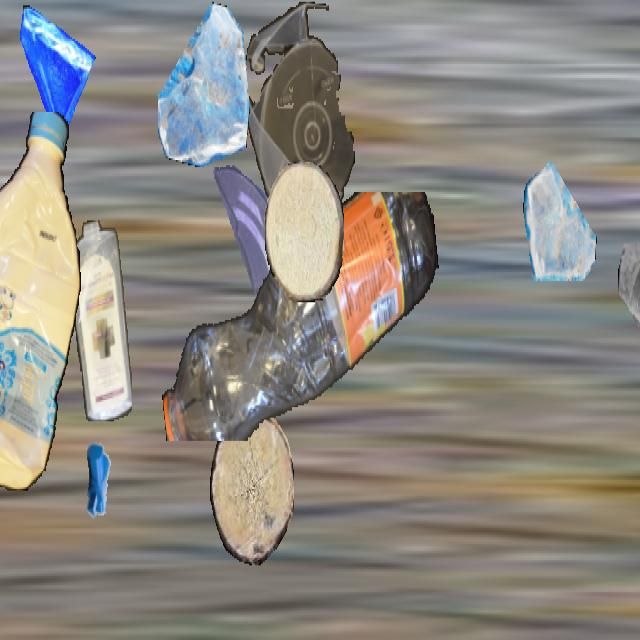glass: (158, 2, 250, 165), (209, 158, 293, 308), (14, 2, 96, 148), (523, 156, 597, 288), (617, 244, 640, 378)
metal: (68, 428, 130, 538)
plastic: (157, 192, 441, 441), (0, 112, 81, 489), (244, 2, 356, 236), (71, 220, 131, 420)
wood: (210, 412, 294, 566), (265, 162, 343, 300)
